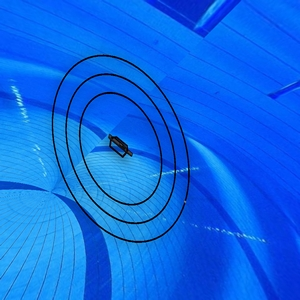circle: (49, 50, 200, 244)
submarine: (102, 131, 136, 165)
